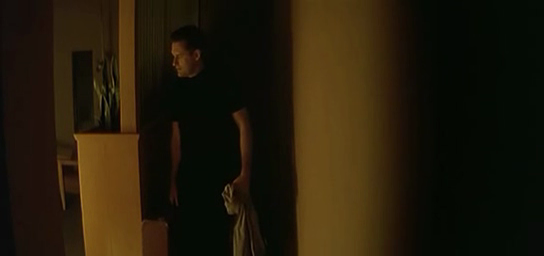face: (171, 50, 187, 77)
mls: (1, 1, 544, 256)
person: (165, 24, 265, 256)
